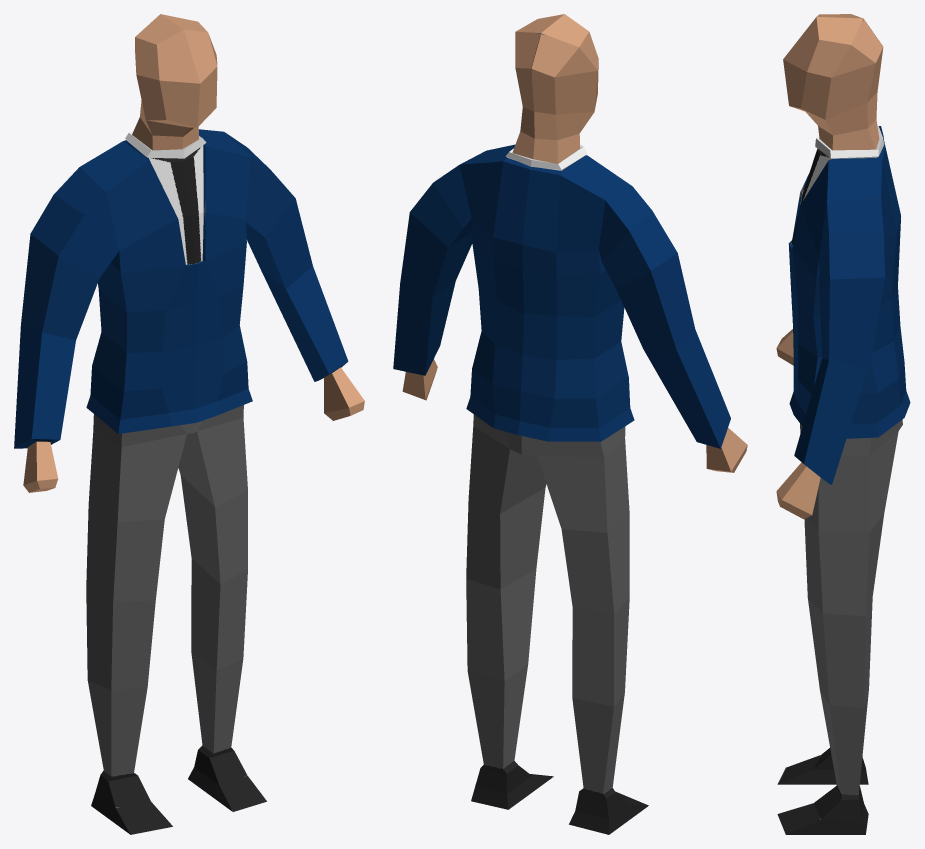
Rendered from character.fbx.
3 renders of one model, left to right at view 1: azimuth 30°, elevation 25°; view 2: azimuth 150°, elevation 25°; view 3: azimuth 270°, elevation 25°, orthographic.
Parts seen in each view (by area): view 1: man1.001; view 2: man1.001; view 3: man1.001.
Part boxes in pixels (<box>): man1.001: <box>14,14,364,834</box>; man1.001: <box>393,14,747,834</box>; man1.001: <box>776,14,910,834</box>.
Bounding box in the file's own units: 88.09 × 200 × 30.94.
